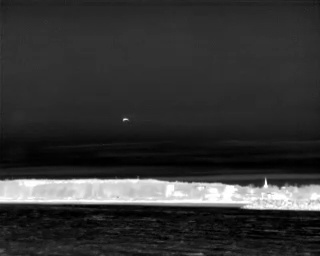BIRD: (121, 115, 131, 125)
